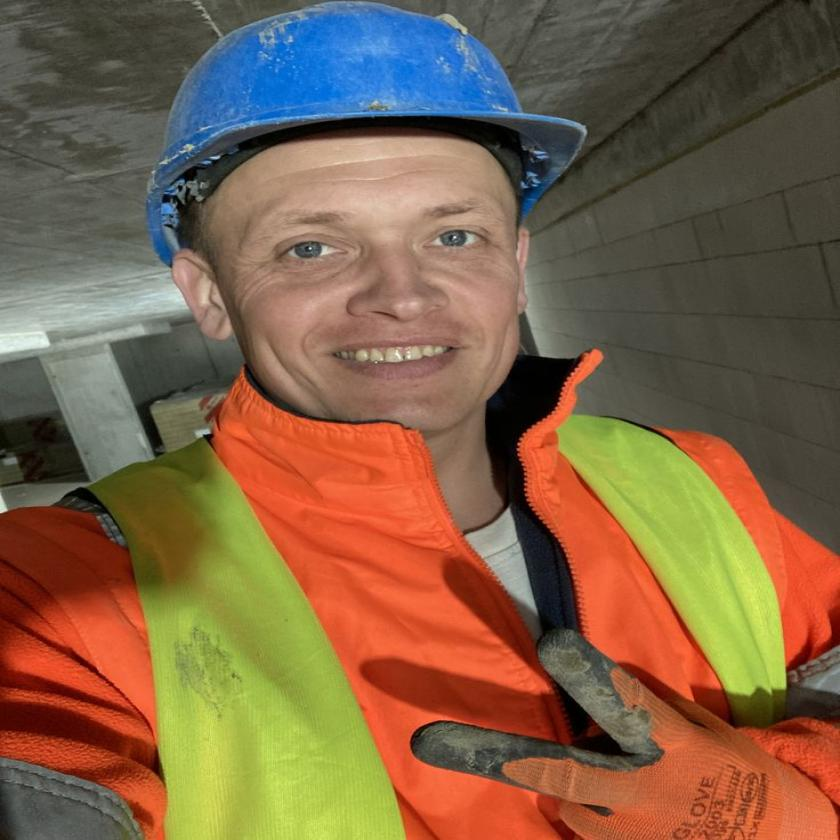Con_casco: (139, 5, 596, 447)
